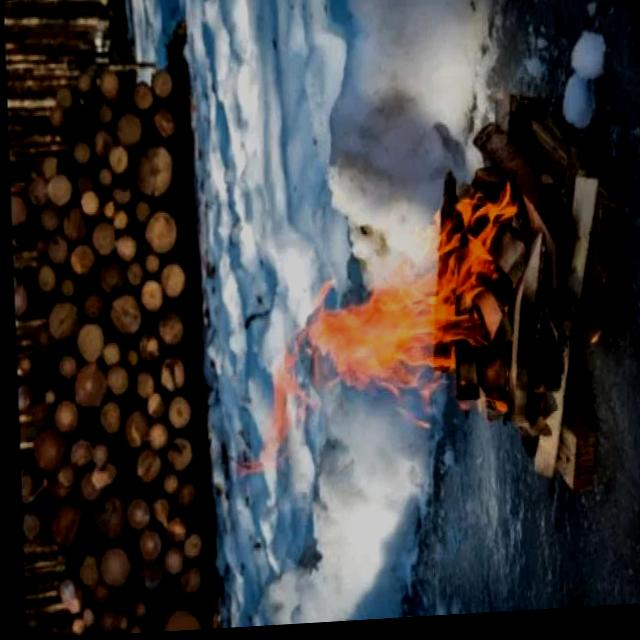helmet: (212, 185, 534, 482)
